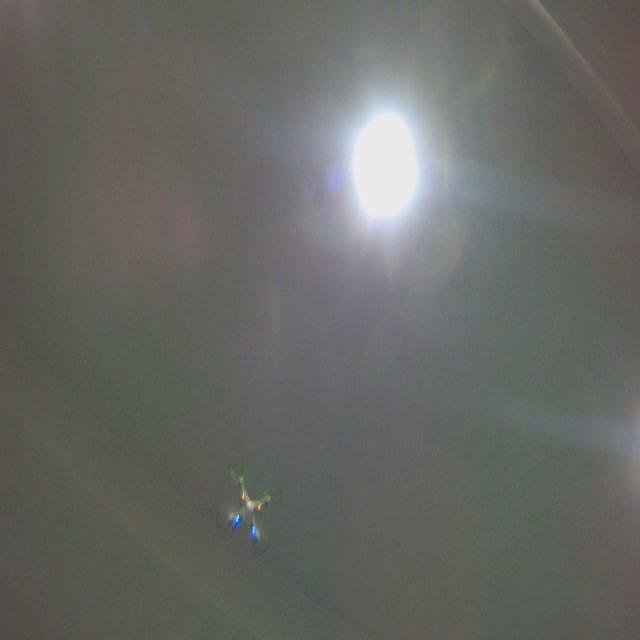drone: (214, 451, 283, 562)
